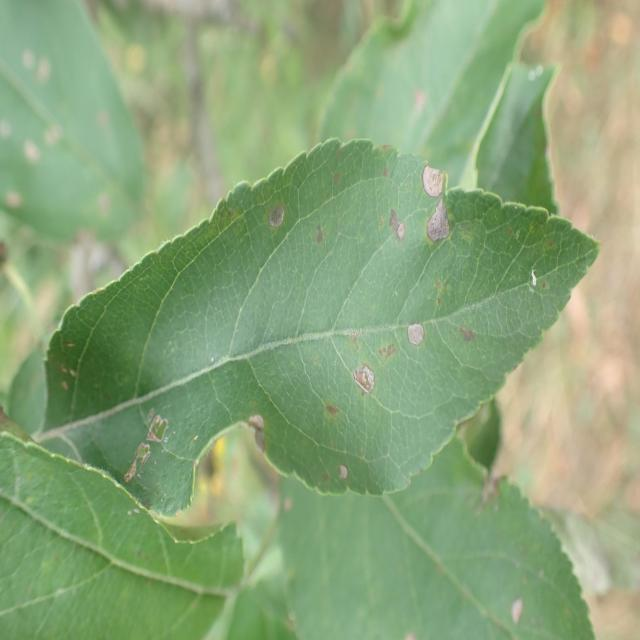frog-eye-leaf-spot: (44, 137, 601, 518)
